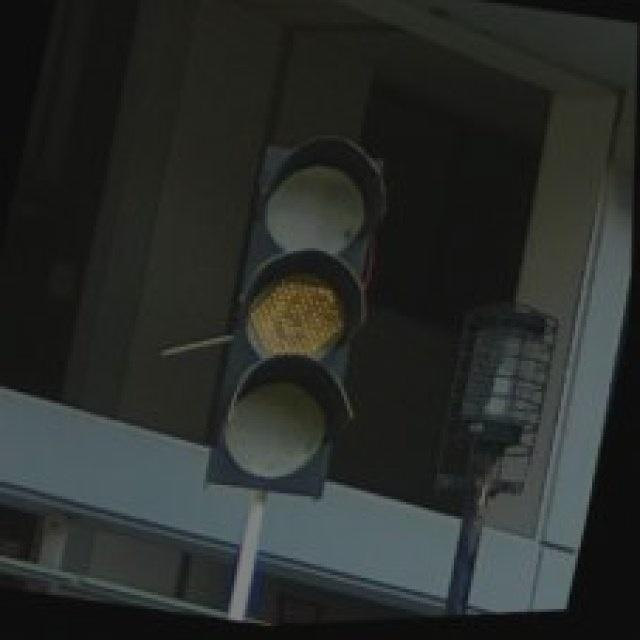Yellow: (194, 127, 409, 516)
